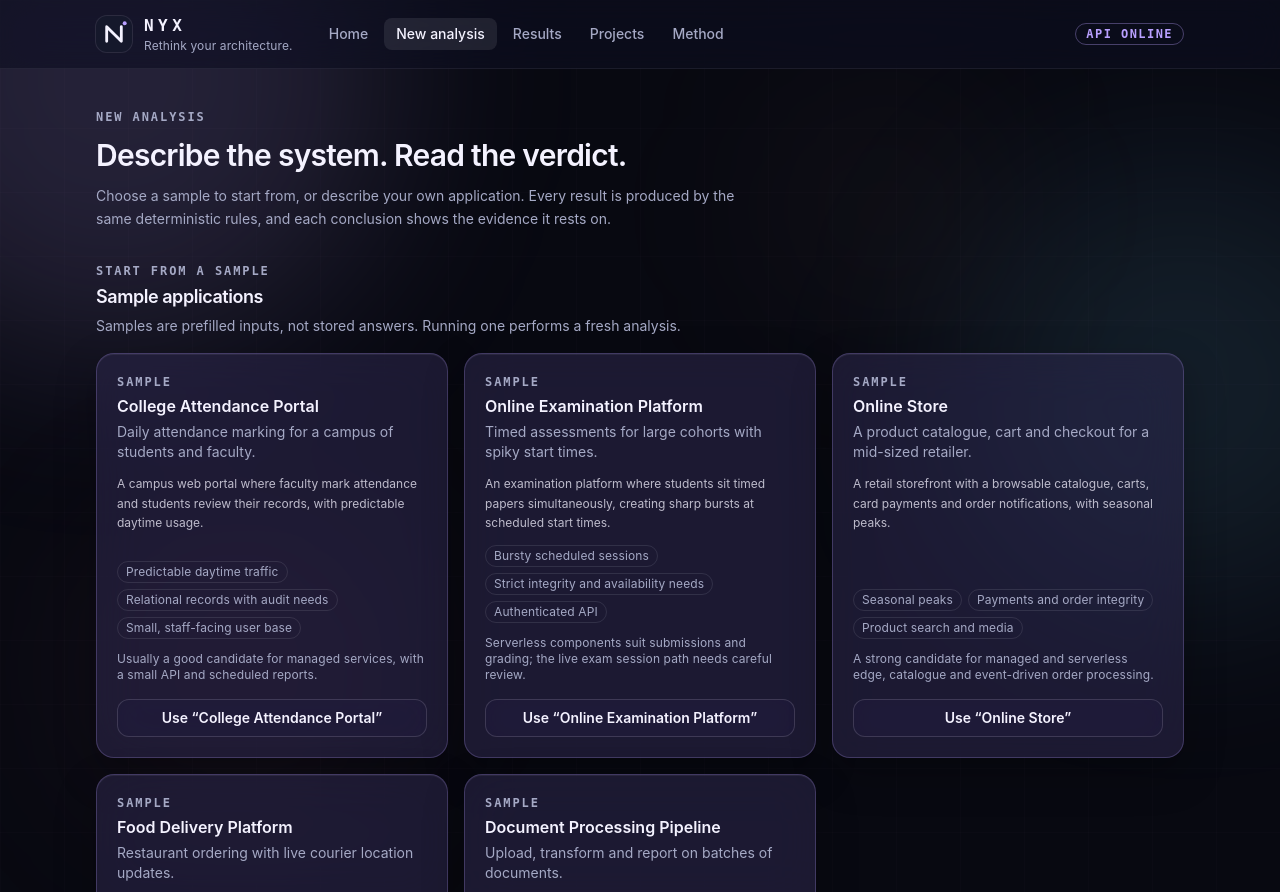
Test case: results › exports an unsaved deterministic result by re-running the rules with AI switched off
The width and height of the screenshot is (1280, 892).
Click the button "Use “Online Examination Platform”" at (640, 718), box 485,699 -> 795,737
(page scrolled)
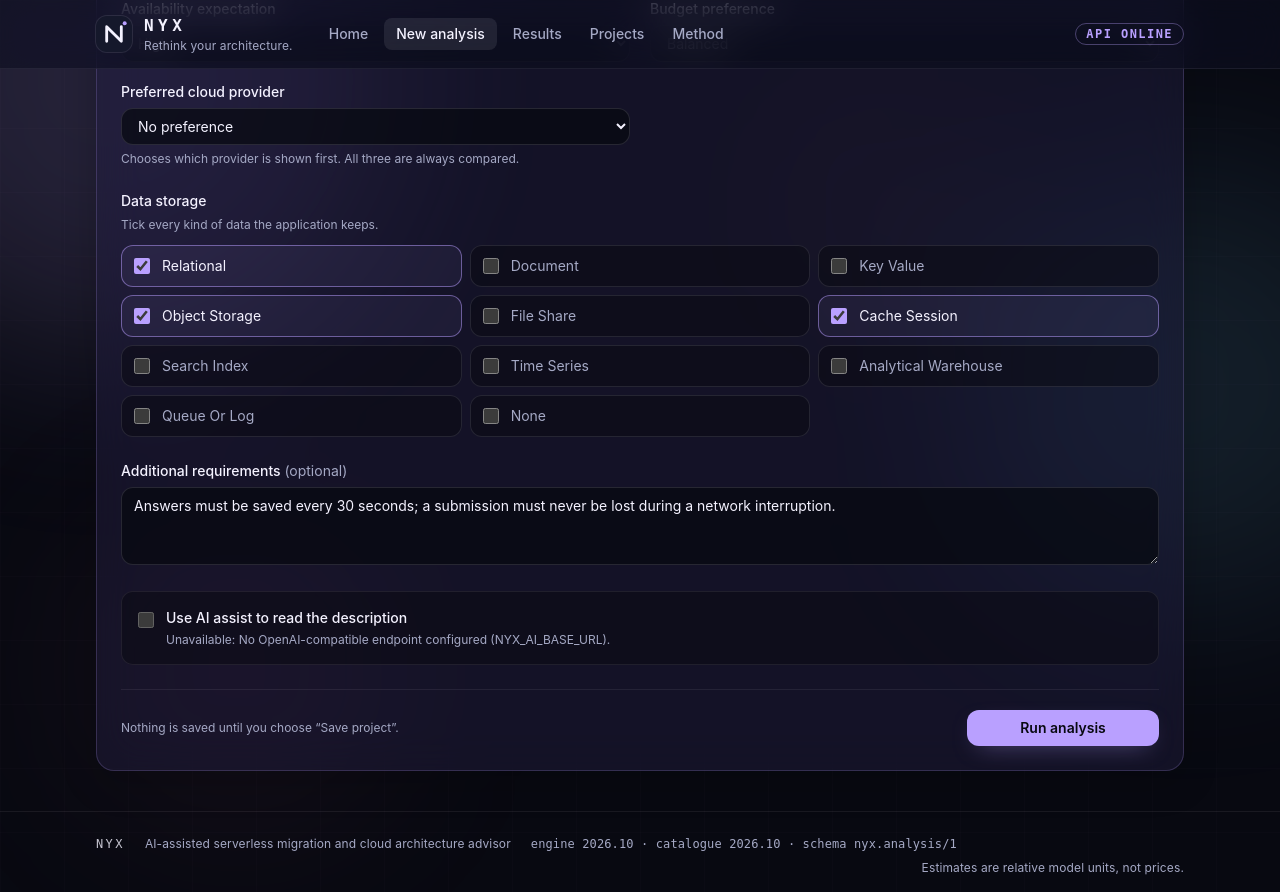
Click the button "Run analysis" at (1063, 728), box 967,710 -> 1159,746
(page scrolled)
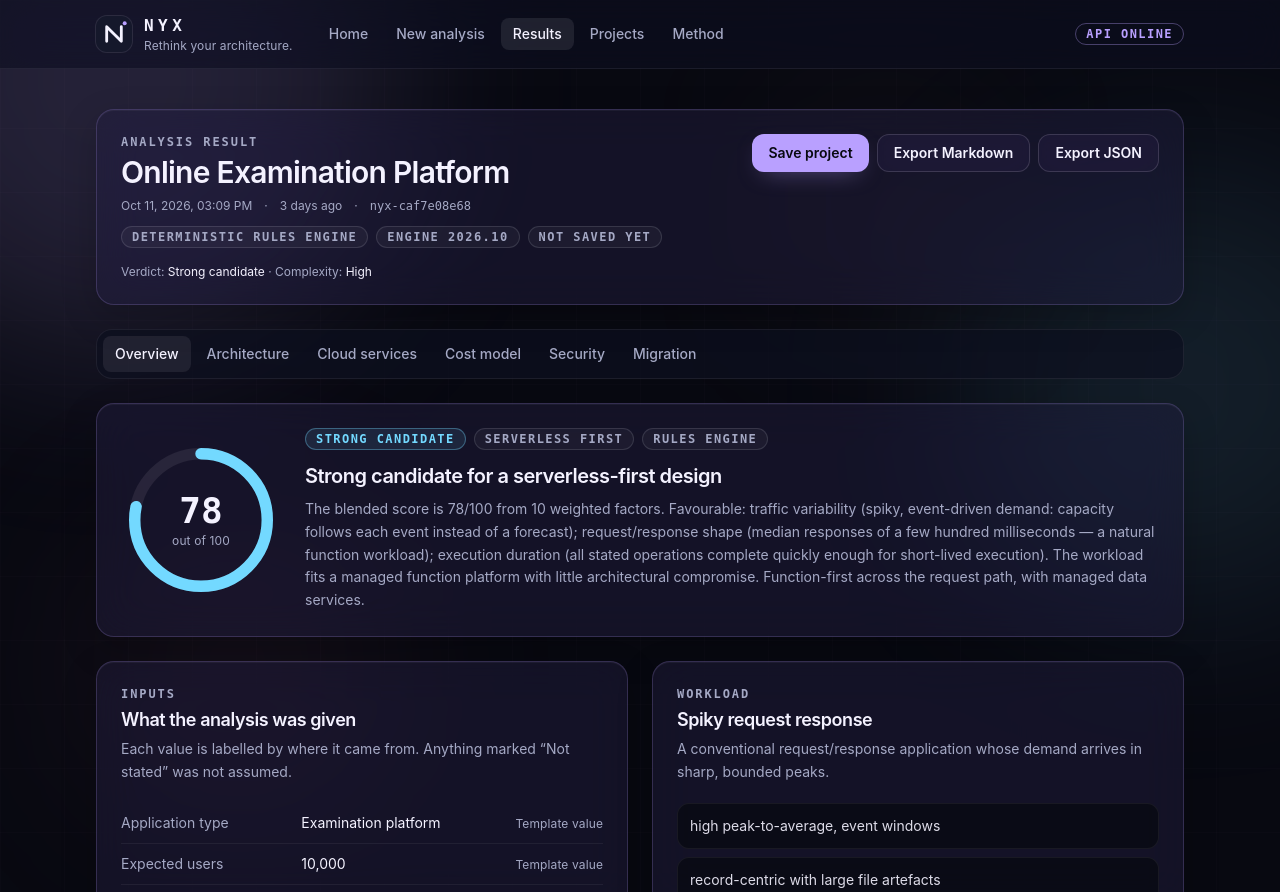
Result: the element named "result sections" is shown at 96,329 -> 1184,379
Click the button "Export JSON" at (1099, 153), box 1038,134 -> 1159,172
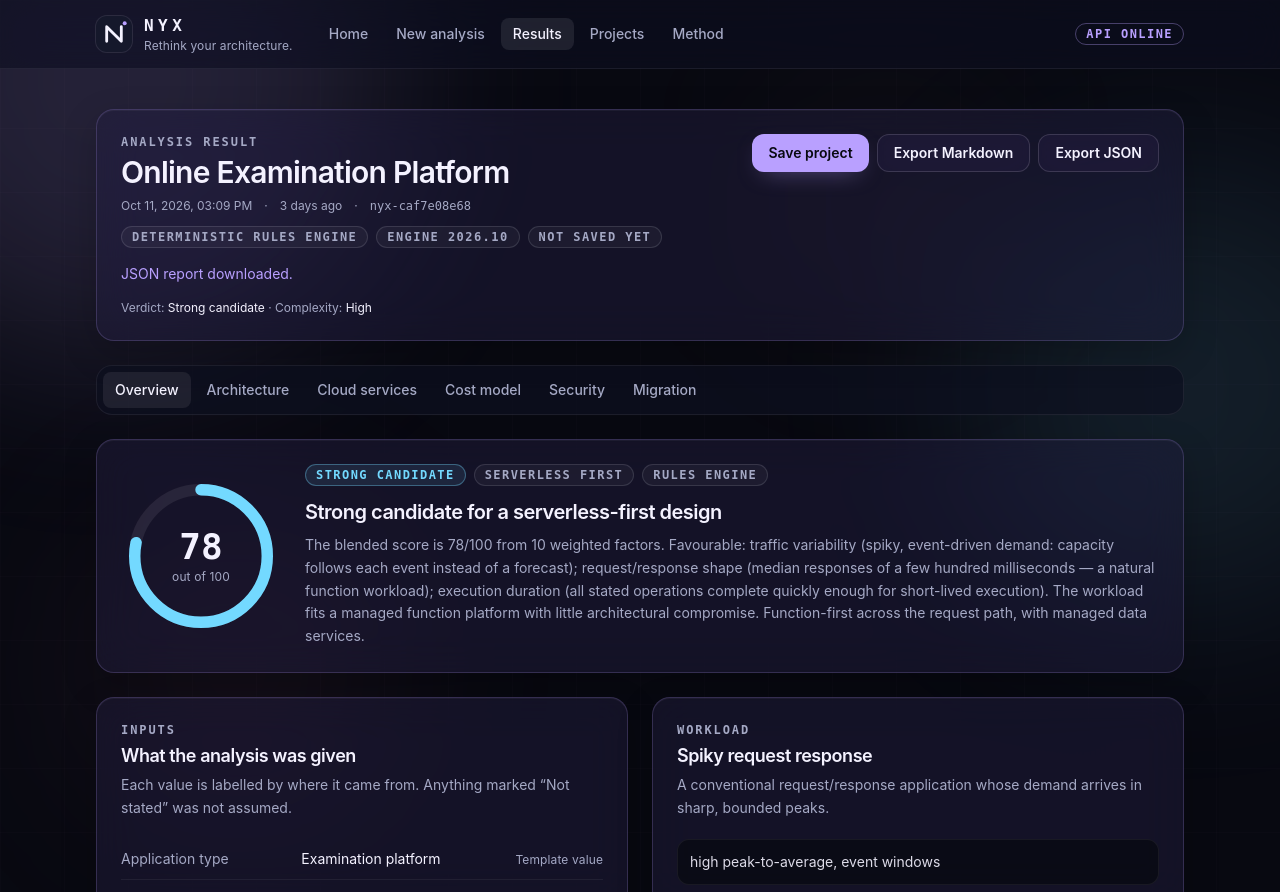
Result: the text "JSON report downloaded." is shown at 121,265 -> 293,282
